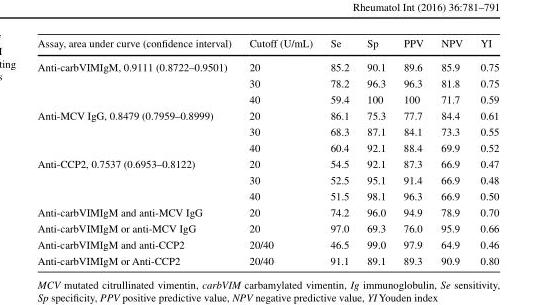table: (36, 36, 498, 266)
table column: (36, 36, 239, 266), (239, 36, 320, 266), (431, 36, 470, 266), (393, 36, 431, 266), (320, 36, 357, 266), (357, 36, 393, 266), (470, 36, 498, 266)
table column header: (36, 36, 498, 54)
table row: (36, 54, 498, 74), (36, 36, 498, 54), (36, 90, 498, 107), (36, 235, 498, 252), (36, 74, 498, 90), (36, 107, 498, 123), (36, 123, 498, 139), (36, 139, 498, 155), (36, 155, 498, 171), (36, 171, 498, 187), (36, 187, 498, 203), (36, 203, 498, 219), (36, 219, 498, 235), (36, 252, 498, 266)
table spanning cell: (36, 54, 239, 107), (36, 107, 239, 155), (36, 155, 239, 203)
